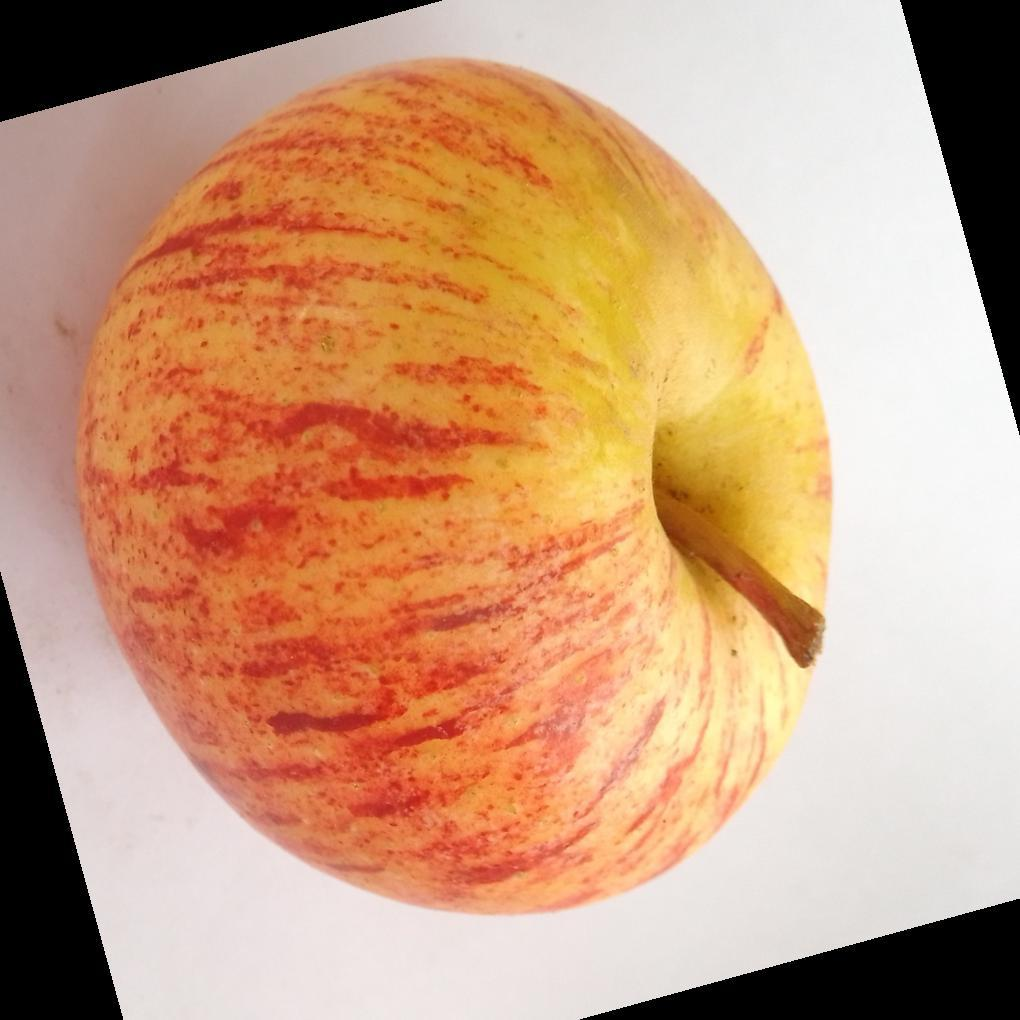FreshGuava: (71, 57, 835, 919)
